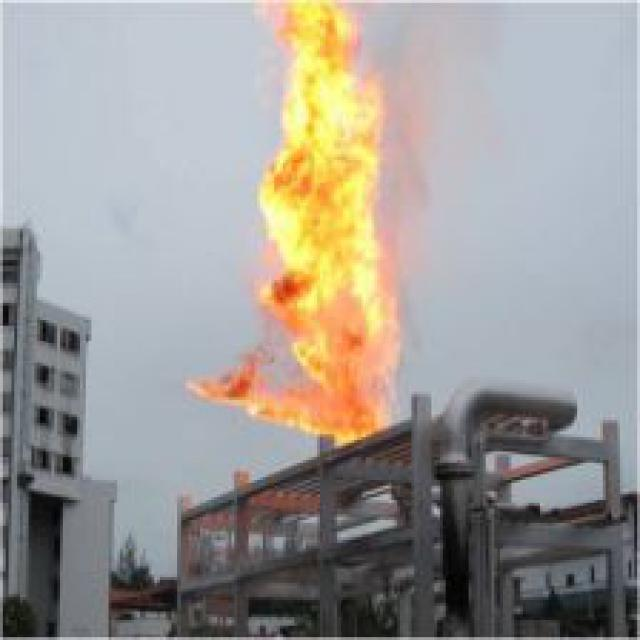fire: (169, 3, 417, 451)
